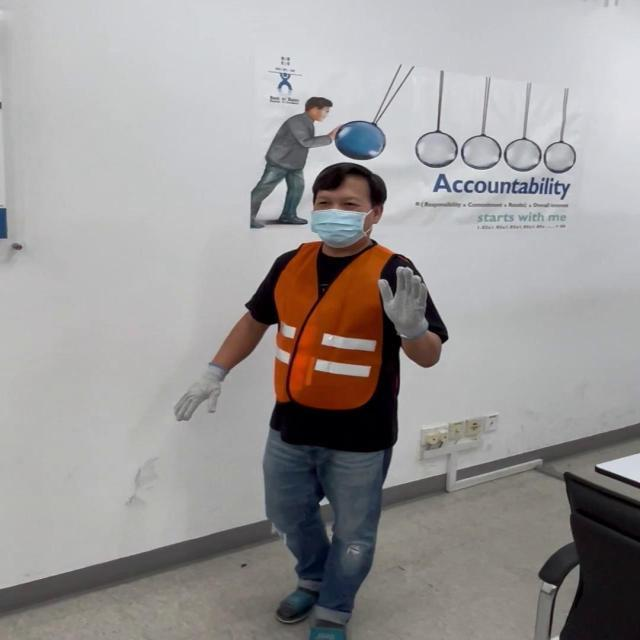gloved_hand: (389, 260, 433, 342), (177, 359, 235, 415)
